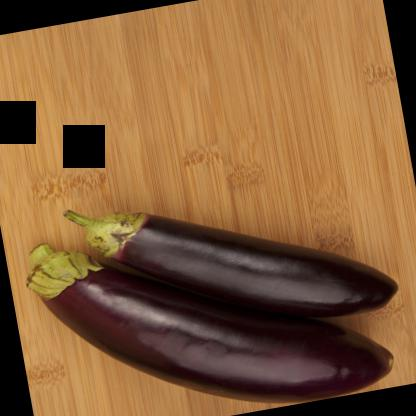eggplant: (12, 188, 398, 415), (60, 153, 400, 362)
